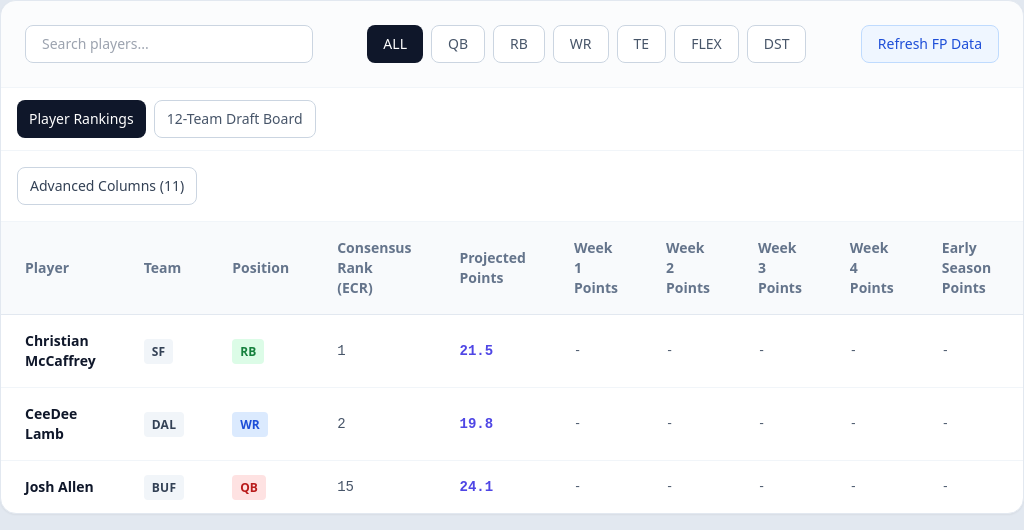
DashboardClient › refreshes player data from FantasyPros refresh endpoint
This screenshot has width=1024, height=530.
Click the button with test id "refresh-data-button" at (930, 44), box [861,25,999,63]
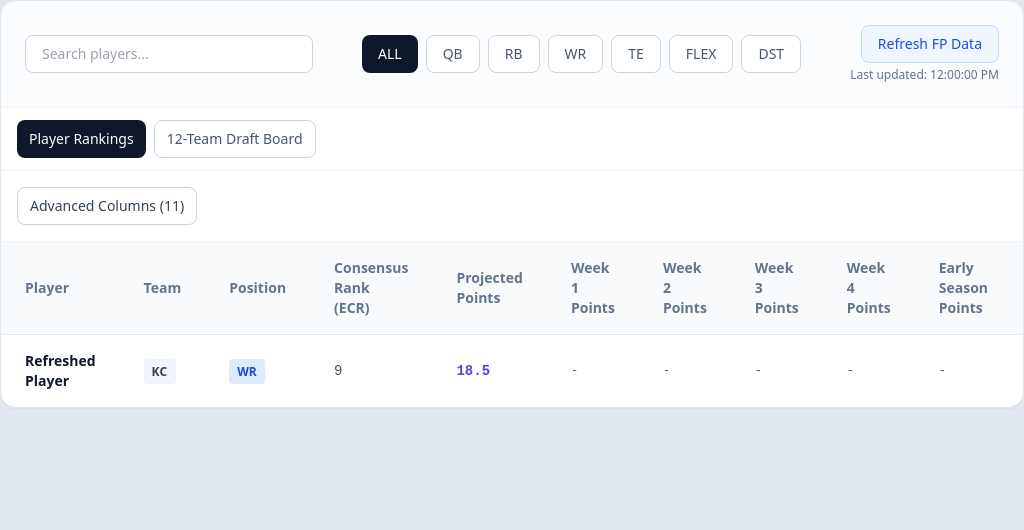
Now the text "Refreshed Player" is shown, box [1,334,120,407]
Now the text "Christian McCaffrey" is gone
Now the text with test id "refresh-last-updated" shows "Last updated:", box [850,66,930,83]
